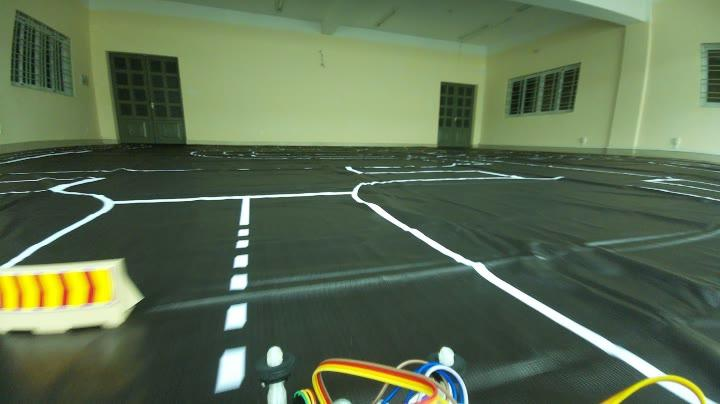roadblock: (0, 254, 150, 334)
